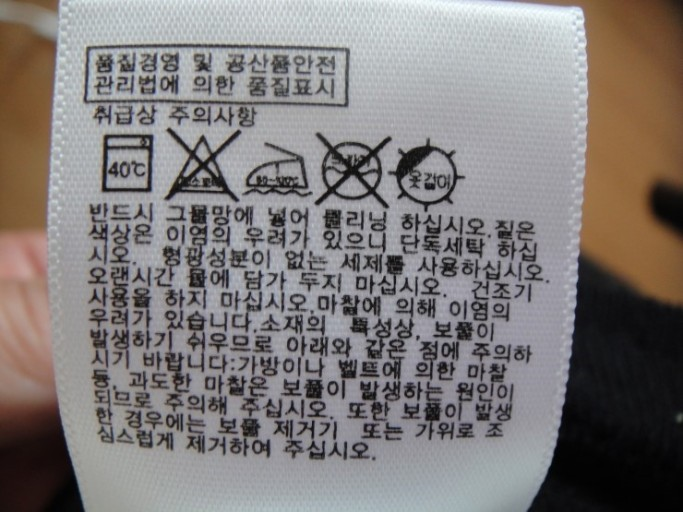KR_hang_dry_in_shade: (390, 138, 462, 208)
KR_iron_low_temp_with_cloth: (244, 135, 314, 201)
KR_no_chlorine_bleach: (167, 127, 232, 197)
KR_no_dry_clean: (319, 133, 385, 203)
KR_wash_40: (99, 129, 156, 198)
